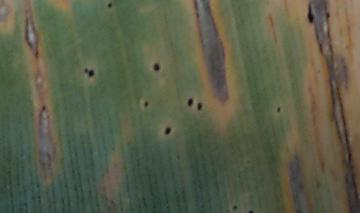tarspot: (306, 3, 316, 26), (163, 127, 173, 136), (196, 101, 203, 113), (187, 97, 194, 108), (88, 69, 96, 77), (153, 63, 160, 71), (275, 105, 282, 113), (40, 104, 47, 111), (107, 2, 113, 10), (143, 100, 149, 108), (232, 203, 238, 211), (325, 11, 331, 19), (246, 208, 255, 213), (84, 66, 89, 74)
